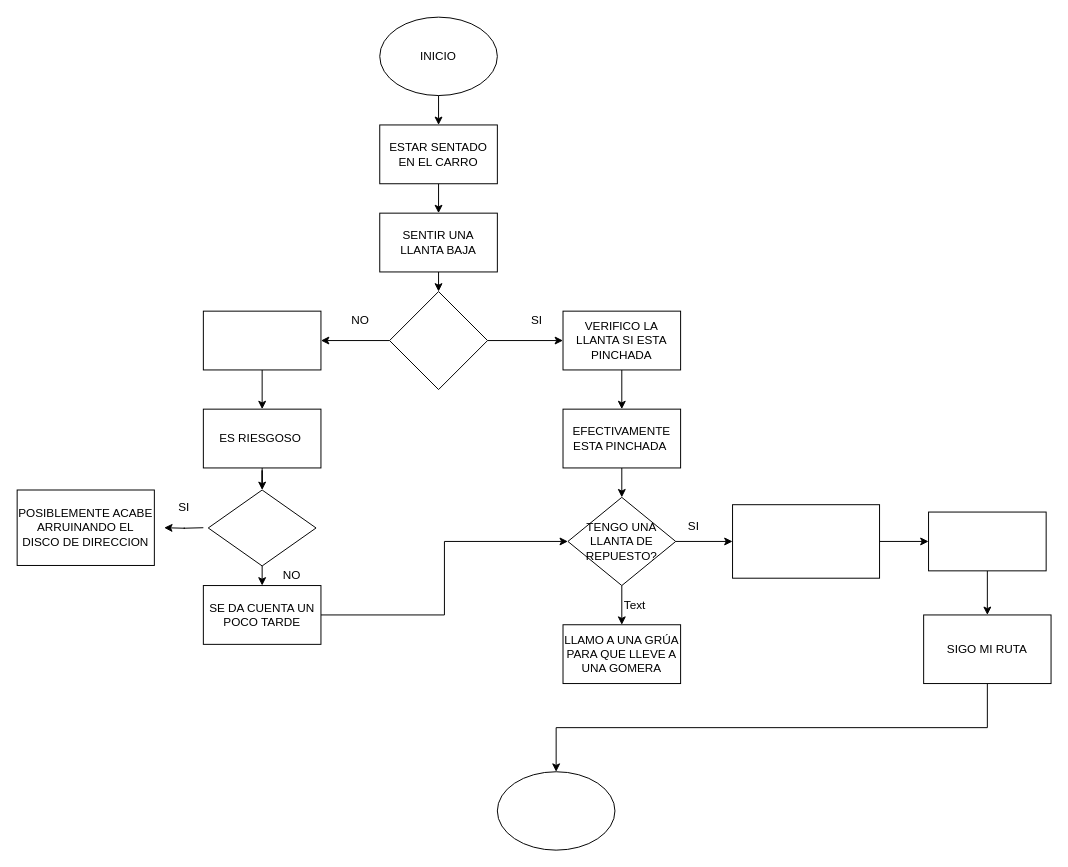
Image size: 1068x867. Some labels were removed from this diagram. The shapes that lost their labels are listed below. From the top down, each one's centre as x and y in pixels, then its label:
point 261,340: SIGO MI RUTA SIN IMPORTAR LA LLANTA
point 438,340: BAJAR DEL AUTO
point 261,527: PUEDE TERMINAR EN UN RESULTADO MALO?
point 806,541: SACO LA LLANTA DE REPUESTO, SACCO LAS LLAVES PARA LOS TORNILLOS
point 987,541: CAMBIO LA LLANTA
point 555,810: FIN
